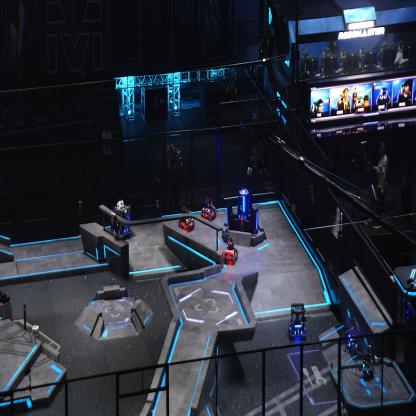car: (288, 300, 308, 340), (110, 201, 131, 239), (200, 194, 217, 222), (223, 237, 239, 266), (178, 204, 194, 230)
